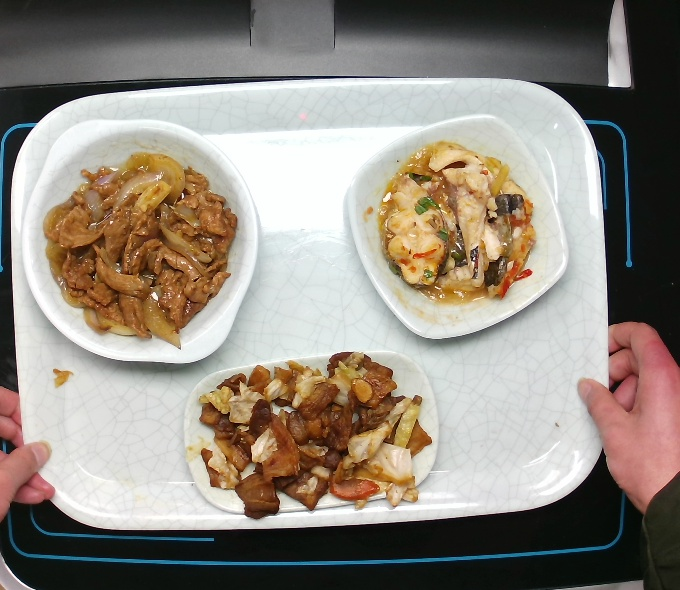wcq-DuoJiaoYuKuai: (371, 145, 536, 305)
wcq-PaoCaiRouPian: (194, 372, 427, 505)
wcq-YangCongRouPian: (45, 151, 232, 344)
